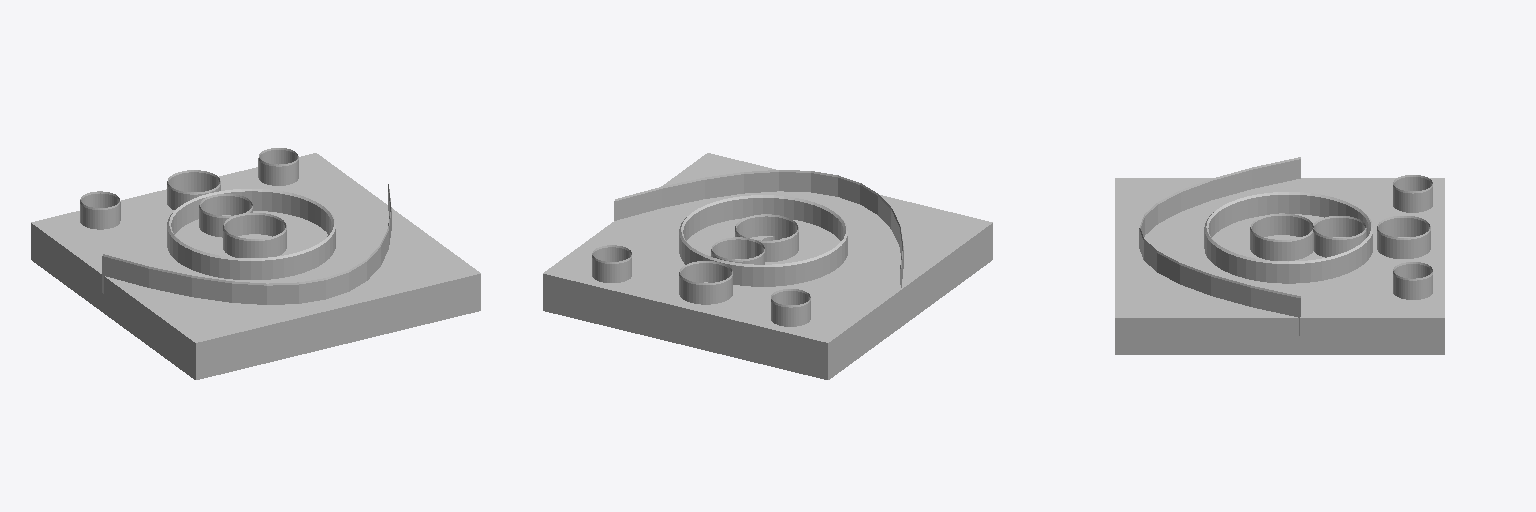
File: Goal_Pad_Base.obj
3 renders of one model, left to right at view 1: azimuth 30°, elevation 25°; view 2: azimuth 150°, elevation 25°; view 3: azimuth 270°, elevation 25°, orthographic.
Visible parts, largest first — view 1: PadBase_Cube.002, BezierCircle.002_BezierCircle.003, Bdry20pt_BezierCircle, Bdry30pt_BezierCircle.001, Bdry40pt_BezierCircle.002, BezierCircle.001_BezierCircle.005, BezierCircle_BezierCircle.004; view 2: PadBase_Cube.002, BezierCircle.002_BezierCircle.003, Bdry20pt_BezierCircle, Bdry30pt_BezierCircle.001, BezierCircle.001_BezierCircle.005, BezierCircle_BezierCircle.004, Bdry40pt_BezierCircle.002; view 3: PadBase_Cube.002, BezierCircle.002_BezierCircle.003, Bdry20pt_BezierCircle, Bdry30pt_BezierCircle.001, Bdry40pt_BezierCircle.002, BezierCircle_BezierCircle.004, BezierCircle.001_BezierCircle.005.
Part boxes in pixels (x1,y1,x2,y2): PadBase_Cube.002: (31,153,480,379); BezierCircle.002_BezierCircle.003: (102,170,391,304); Bdry20pt_BezierCircle: (167,189,335,279); Bdry30pt_BezierCircle.001: (223,213,286,257); Bdry40pt_BezierCircle.002: (199,194,252,237); BezierCircle.001_BezierCircle.005: (80,191,120,229); BezierCircle_BezierCircle.004: (258,148,298,185); PadBase_Cube.002: (543,153,992,379); BezierCircle.002_BezierCircle.003: (614,170,903,304); Bdry20pt_BezierCircle: (679,195,847,286); Bdry30pt_BezierCircle.001: (735,214,798,261); BezierCircle.001_BezierCircle.005: (771,289,810,326); BezierCircle_BezierCircle.004: (592,245,631,282); Bdry40pt_BezierCircle.002: (711,237,764,264); PadBase_Cube.002: (1115,178,1444,354); BezierCircle.002_BezierCircle.003: (1139,157,1430,335); Bdry20pt_BezierCircle: (1204,192,1372,283); Bdry30pt_BezierCircle.001: (1250,213,1313,260); Bdry40pt_BezierCircle.002: (1312,216,1366,257); BezierCircle_BezierCircle.004: (1393,262,1432,299); BezierCircle.001_BezierCircle.005: (1393,175,1432,212).
Size of the model in its own units: 161 by 31.41 by 160.